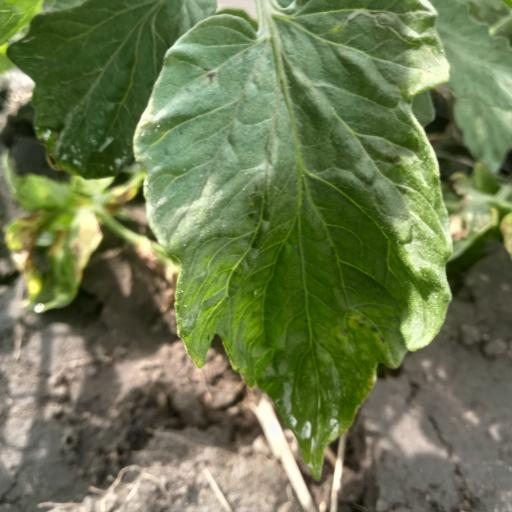Tomato_Brown_Spots: (124, 0, 458, 498)
